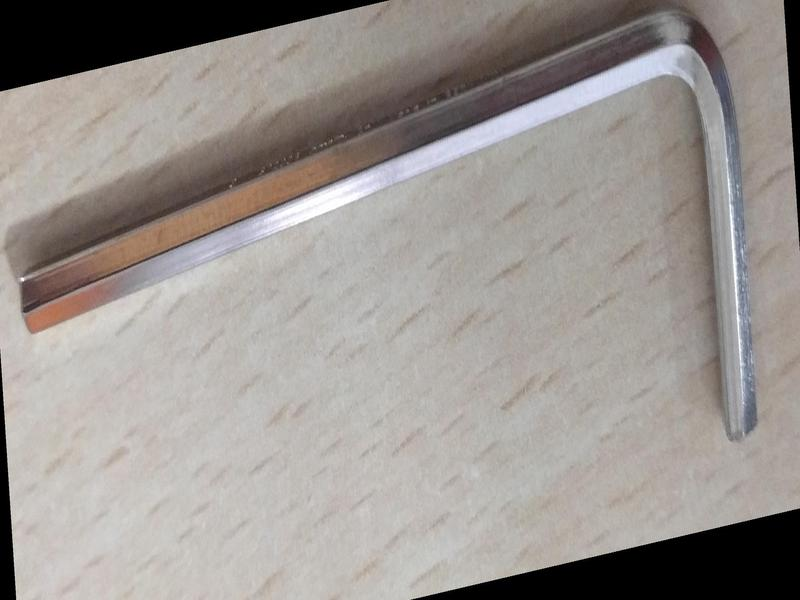turner: (29, 11, 771, 454)
